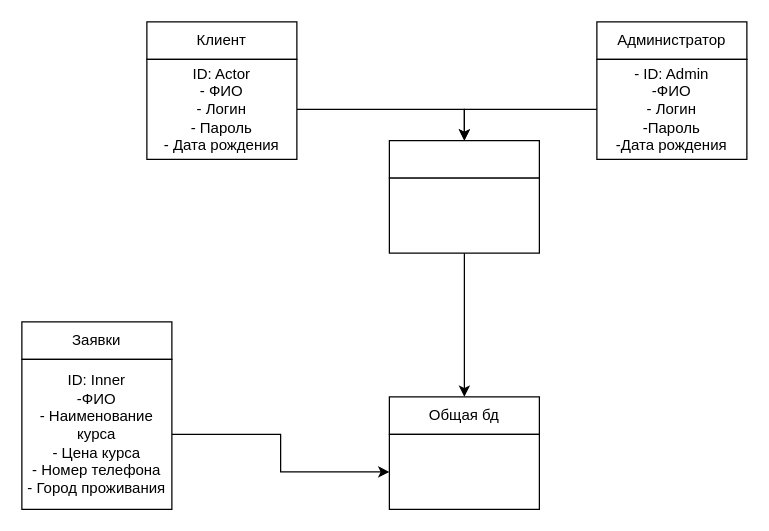
This 769x531 diagram has some shape labels left out. The shapes that lost their labels are listed below. From the top down, each one's box as (x1, y1, x2, y2) in pixels, then its label:
(388, 139, 539, 178): Авторизация
(388, 177, 539, 253): ID: Admin ID: Actor
(388, 433, 539, 509): ID: Athorize ID: Inner
